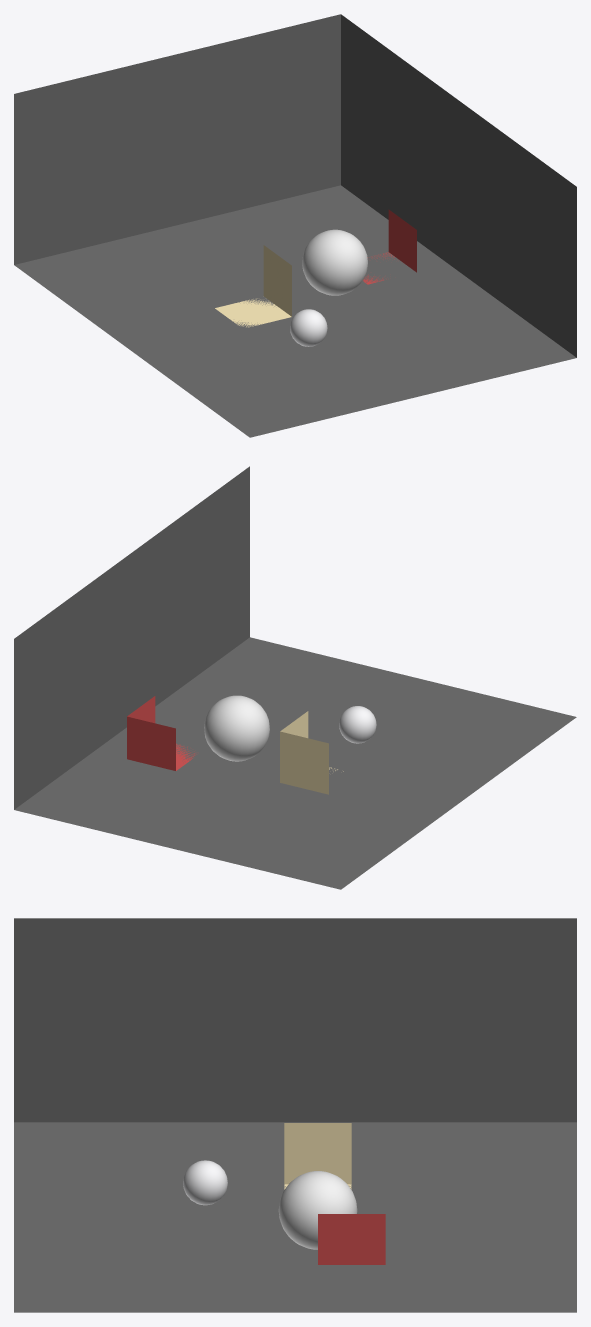
Rendered from showcase.gltf.
3 views of the same model, one above another, from view 1: azimuth 30°, elevation 25°; view 2: azimuth 150°, elevation 25°; view 3: azimuth 270°, elevation 25° (orthographic). The views are drawn at different scales.
Visible parts, largest first — view 1: floor, back_wall, right_wall, white_sphere, metal_cube, red_cube, small_metal_sphere; view 2: floor, right_wall, white_sphere, metal_cube, red_cube, small_metal_sphere; view 3: left_wall, floor, white_sphere, metal_cube, red_cube, small_metal_sphere.
Part boxes in pixels (left/top/right/bottom): floor: left=14, top=185, right=576, bottom=437; back_wall: left=14, top=14, right=340, bottom=264; right_wall: left=341, top=14, right=576, bottom=357; white_sphere: left=302, top=229, right=367, bottom=295; metal_cube: left=215, top=245, right=291, bottom=327; red_cube: left=363, top=209, right=416, bottom=284; small_metal_sphere: left=290, top=309, right=327, bottom=346; floor: left=14, top=637, right=576, bottom=889; right_wall: left=14, top=466, right=249, bottom=809; white_sphere: left=204, top=695, right=269, bottom=761; metal_cube: left=280, top=711, right=343, bottom=794; red_cube: left=127, top=696, right=196, bottom=770; small_metal_sphere: left=339, top=706, right=376, bottom=743; left_wall: left=14, top=918, right=576, bottom=1122; floor: left=14, top=1122, right=576, bottom=1312; white_sphere: left=278, top=1171, right=357, bottom=1249; metal_cube: left=284, top=1123, right=351, bottom=1189; red_cube: left=318, top=1214, right=385, bottom=1264; small_metal_sphere: left=183, top=1160, right=227, bottom=1205.
Size of the model in its own units: 4 by 2 by 5.
